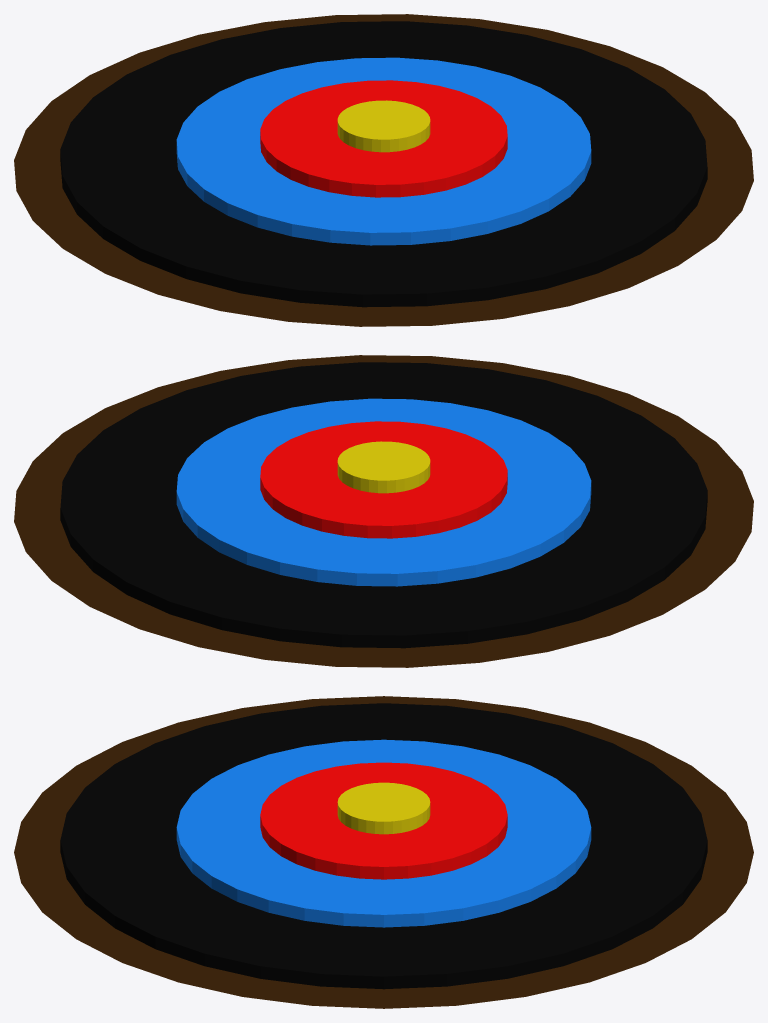
The model's file is BullseyeTarget.fbx.
3 renders of one model, top to bottom at view 1: azimuth 30°, elevation 25°; view 2: azimuth 150°, elevation 25°; view 3: azimuth 270°, elevation 25°, orthographic.
Parts seen in each view (by area): view 1: BlackZone, BlueZone, BackPlate, RedZone, YellowZone; view 2: BlackZone, BlueZone, BackPlate, RedZone, YellowZone; view 3: BlackZone, BlueZone, BackPlate, RedZone, YellowZone.
Part boxes in pixels (x1,y1,x2,y2): BlackZone: (60, 21, 707, 307); BlueZone: (176, 57, 591, 245); BackPlate: (14, 14, 753, 326); RedZone: (260, 80, 507, 197); YellowZone: (337, 100, 430, 152); BlackZone: (60, 362, 707, 648); BlueZone: (176, 398, 591, 586); BackPlate: (14, 355, 753, 667); RedZone: (260, 421, 507, 538); YellowZone: (337, 441, 430, 493); BlackZone: (60, 703, 707, 989); BlueZone: (176, 739, 591, 927); BackPlate: (14, 696, 753, 1008); RedZone: (260, 762, 507, 879); YellowZone: (337, 782, 430, 834).
Bounding box in the file's own units: 800 × 60 × 800.
